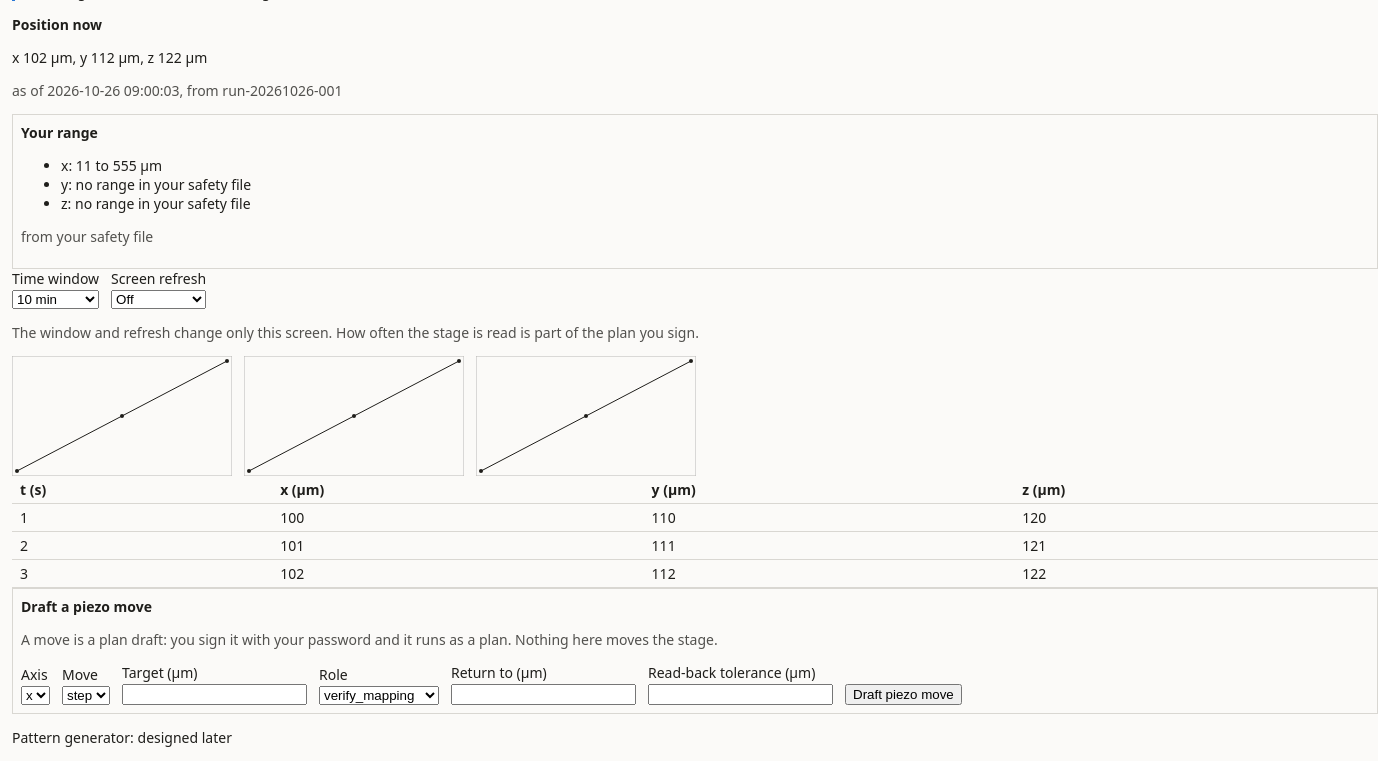
Scenario: the piezo draft is an operation plan, shown and saved nowhere › sends nothing else: a tour that drafts is the only thing that posts
(page scrolled)
Expected: the element "Draft a piezo move" is shown, 12,588 -> 1377,714
In the field labelled "Read-back tolerance (µm)": (740, 694) 648,684 -> 833,705, type "1"
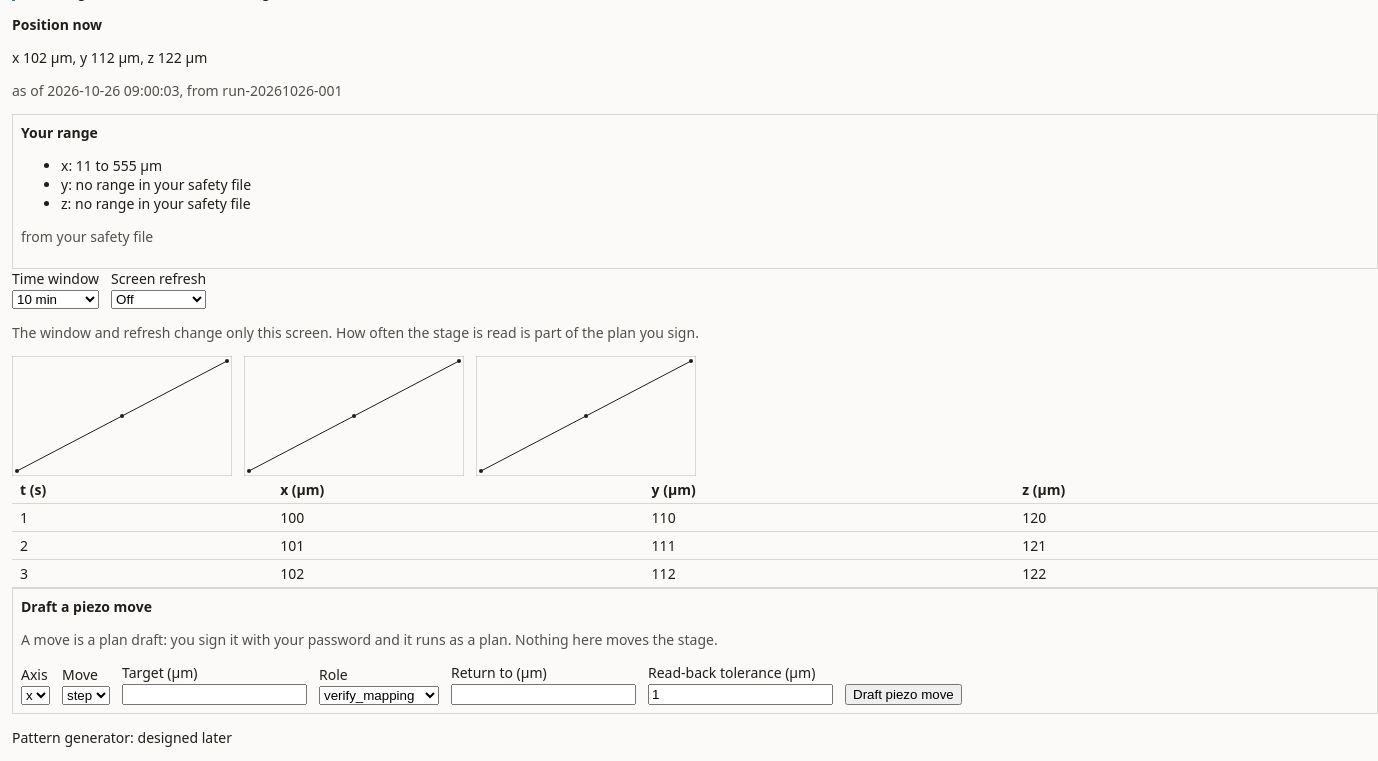
Click the button "Draft piezo move": (903, 694) 845,684 -> 962,705
(page scrolled)
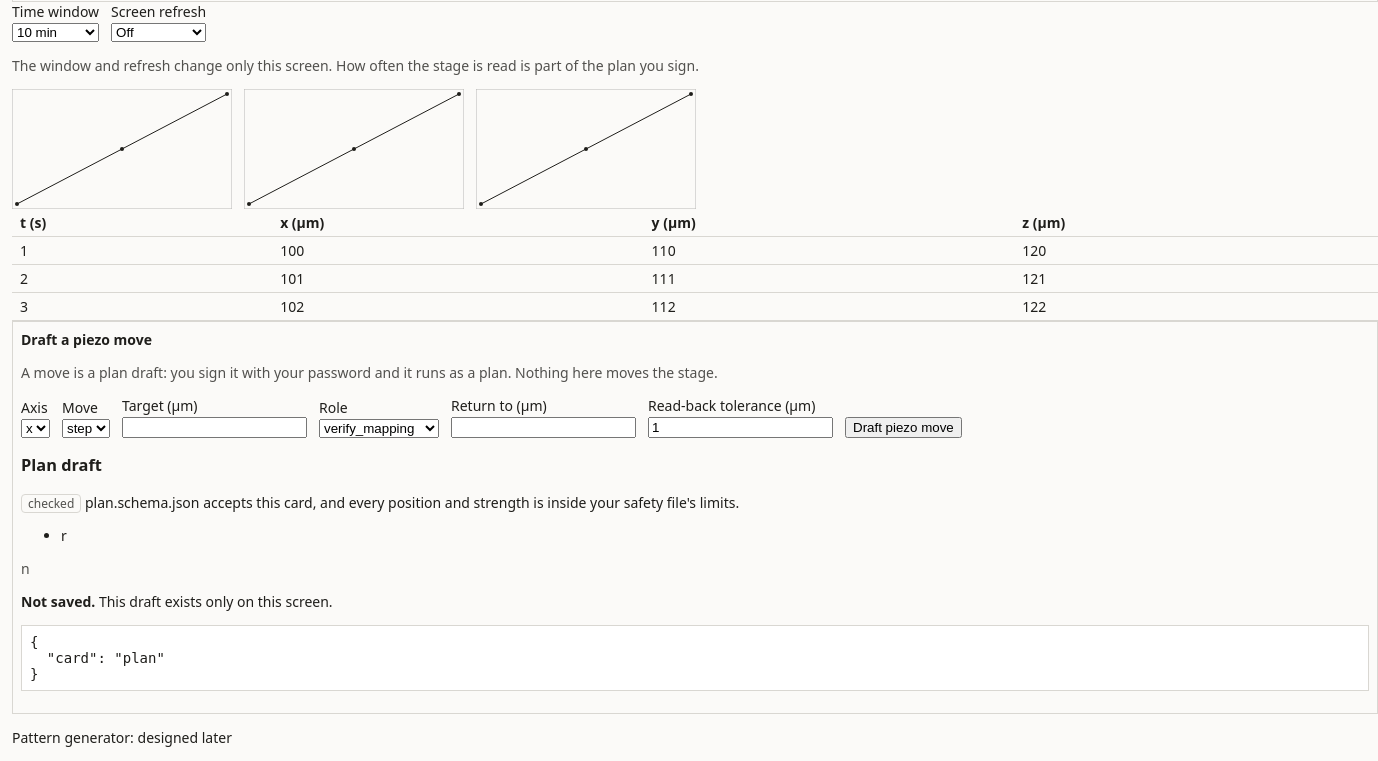
Now the element "Plan draft" is shown, box 21,454 -> 1369,691
